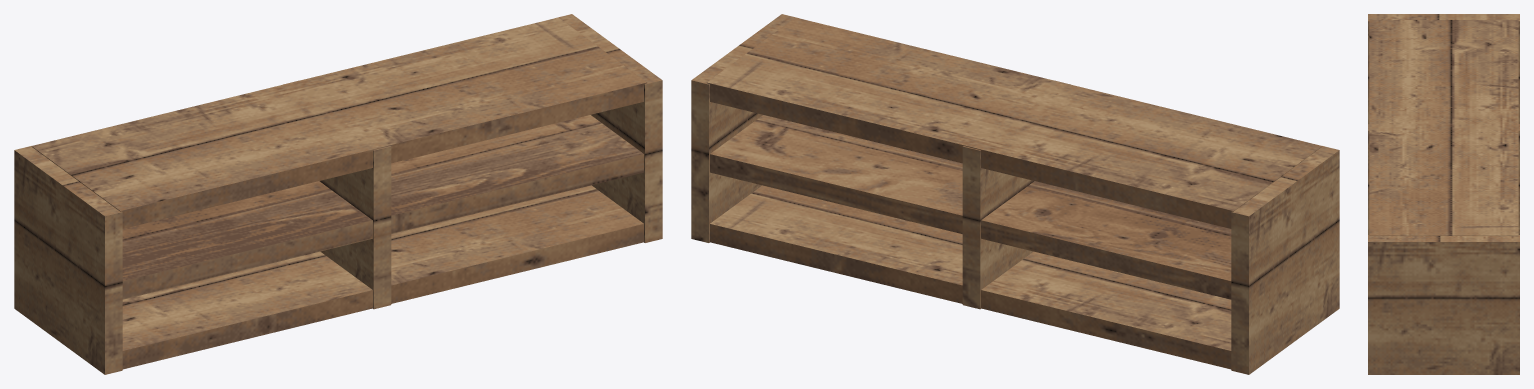
The model's file is TvStand.fbx.
3 views of the same model, side by side, from view 1: azimuth 30°, elevation 25°; view 2: azimuth 150°, elevation 25°; view 3: azimuth 270°, elevation 25° (orthographic). The views are drawn at different scales.
Visible parts, largest first — view 1: Cube.017; view 2: Cube.017; view 3: Cube.017.
Part boxes in pixels (x1=…): Cube.017: x1=14, y1=14, x2=662, y2=374; Cube.017: x1=691, y1=14, x2=1339, y2=374; Cube.017: x1=1368, y1=14, x2=1519, y2=374.
Size of the model in its own units: 796 by 217 by 224.
